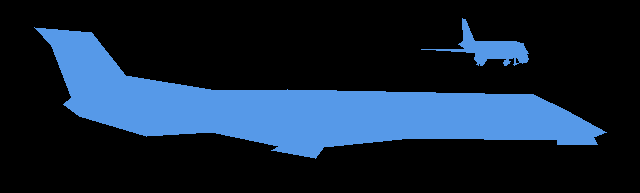Airplane: (34, 27, 606, 158), (421, 18, 529, 66)
